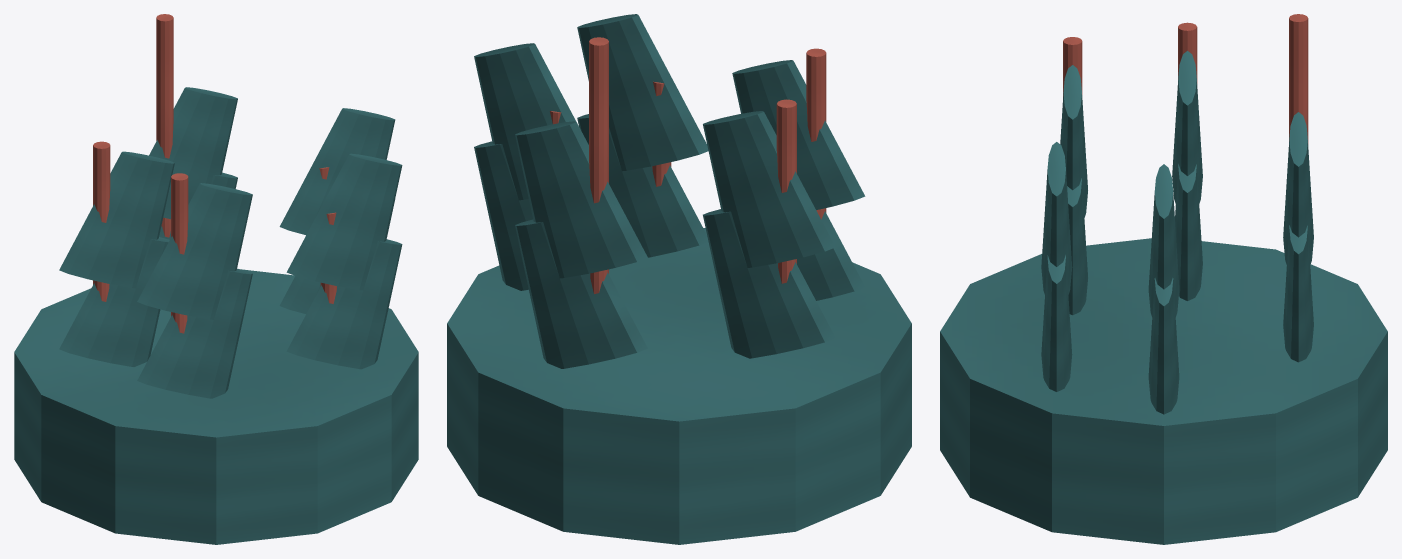
Rendered from atlas100-s031-a12.glb.
The picture shows the model from 3 angles, left to right: view 1: azimuth 30°, elevation 25°; view 2: azimuth 150°, elevation 25°; view 3: azimuth 270°, elevation 25°; orthographic projection. The views are drawn at different scales.
Visible parts, largest first — view 1: atlas100-s031-a12:part-000, atlas100-s031-a12:part-012, atlas100-s031-a12:part-006, atlas100-s031-a12:part-015, atlas100-s031-a12:part-005, atlas100-s031-a12:part-011, atlas100-s031-a12:part-014, atlas100-s031-a12:part-009, atlas100-s031-a12:part-003, atlas100-s031-a12:part-007, atlas100-s031-a12:part-004, atlas100-s031-a12:part-013 (+1 smaller); view 2: atlas100-s031-a12:part-000, atlas100-s031-a12:part-009, atlas100-s031-a12:part-015, atlas100-s031-a12:part-012, atlas100-s031-a12:part-008, atlas100-s031-a12:part-014, atlas100-s031-a12:part-003, atlas100-s031-a12:part-006, atlas100-s031-a12:part-011, atlas100-s031-a12:part-002, atlas100-s031-a12:part-007, atlas100-s031-a12:part-005 (+2 smaller); view 3: atlas100-s031-a12:part-000, atlas100-s031-a12:part-002, atlas100-s031-a12:part-008, atlas100-s031-a12:part-011, atlas100-s031-a12:part-014, atlas100-s031-a12:part-003, atlas100-s031-a12:part-012, atlas100-s031-a12:part-015, atlas100-s031-a12:part-009, atlas100-s031-a12:part-006, atlas100-s031-a12:part-007, atlas100-s031-a12:part-005 (+2 smaller).
Part boxes in pixels (bbox=[...]): atlas100-s031-a12:part-000: bbox=[14, 269, 418, 544]; atlas100-s031-a12:part-012: bbox=[286, 153, 402, 290]; atlas100-s031-a12:part-006: bbox=[137, 183, 252, 319]; atlas100-s031-a12:part-015: bbox=[59, 151, 174, 288]; atlas100-s031-a12:part-005: bbox=[137, 268, 252, 398]; atlas100-s031-a12:part-011: bbox=[286, 239, 402, 369]; atlas100-s031-a12:part-014: bbox=[59, 237, 169, 366]; atlas100-s031-a12:part-009: bbox=[149, 87, 237, 219]; atlas100-s031-a12:part-003: bbox=[279, 108, 395, 234]; atlas100-s031-a12:part-007: bbox=[156, 14, 173, 237]; atlas100-s031-a12:part-004: bbox=[171, 173, 188, 333]; atlas100-s031-a12:part-013: bbox=[93, 141, 110, 301]; atlas100-s031-a12:part-000: bbox=[447, 228, 911, 544]; atlas100-s031-a12:part-009: bbox=[515, 121, 647, 278]; atlas100-s031-a12:part-015: bbox=[703, 111, 835, 267]; atlas100-s031-a12:part-012: bbox=[577, 14, 708, 171]; atlas100-s031-a12:part-008: bbox=[515, 219, 647, 368]; atlas100-s031-a12:part-014: bbox=[703, 209, 835, 358]; atlas100-s031-a12:part-003: bbox=[474, 43, 588, 200]; atlas100-s031-a12:part-006: bbox=[732, 60, 865, 209]; atlas100-s031-a12:part-011: bbox=[577, 114, 708, 257]; atlas100-s031-a12:part-002: bbox=[474, 141, 532, 290]; atlas100-s031-a12:part-007: bbox=[589, 37, 608, 293]; atlas100-s031-a12:part-005: bbox=[797, 211, 864, 300]; atlas100-s031-a12:part-000: bbox=[940, 238, 1387, 544]; atlas100-s031-a12:part-002: bbox=[1148, 278, 1179, 414]; atlas100-s031-a12:part-008: bbox=[1283, 225, 1313, 362]; atlas100-s031-a12:part-011: bbox=[1041, 255, 1072, 391]; atlas100-s031-a12:part-014: bbox=[1175, 164, 1202, 300]; atlas100-s031-a12:part-003: bbox=[1148, 164, 1179, 316]; atlas100-s031-a12:part-012: bbox=[1041, 142, 1072, 294]; atlas100-s031-a12:part-015: bbox=[1172, 51, 1202, 203]; atlas100-s031-a12:part-009: bbox=[1283, 112, 1313, 264]; atlas100-s031-a12:part-006: bbox=[1060, 65, 1087, 217]; atlas100-s031-a12:part-007: bbox=[1289, 14, 1308, 143]; atlas100-s031-a12:part-005: bbox=[1067, 178, 1087, 315].
Bounding box in the file's own units: 1.17 × 1.25 × 1.16.
2 materials, 2 textured.
